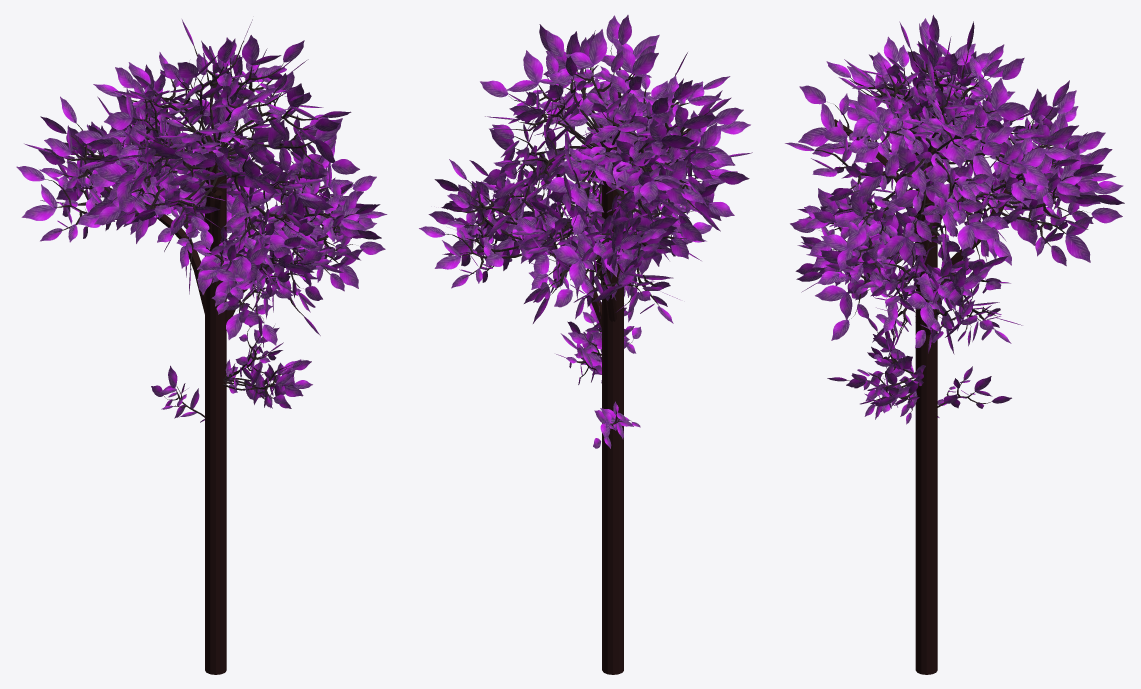
File: purpletree3.fbx
3 views of the same model, side by side, from view 1: azimuth 30°, elevation 25°; view 2: azimuth 150°, elevation 25°; view 3: azimuth 270°, elevation 25° (orthographic).
Parts seen in each view (by area): view 1: pCylinder1073; view 2: pCylinder1073; view 3: pCylinder1073.
Part boxes in pixels (x1=…): pCylinder1073: x1=16, y1=19, x2=387, y2=674; pCylinder1073: x1=419, y1=15, x2=752, y2=674; pCylinder1073: x1=785, y1=15, x2=1124, y2=674.
Size of the model in its own units: 20.51 by 41.69 by 19.97.
